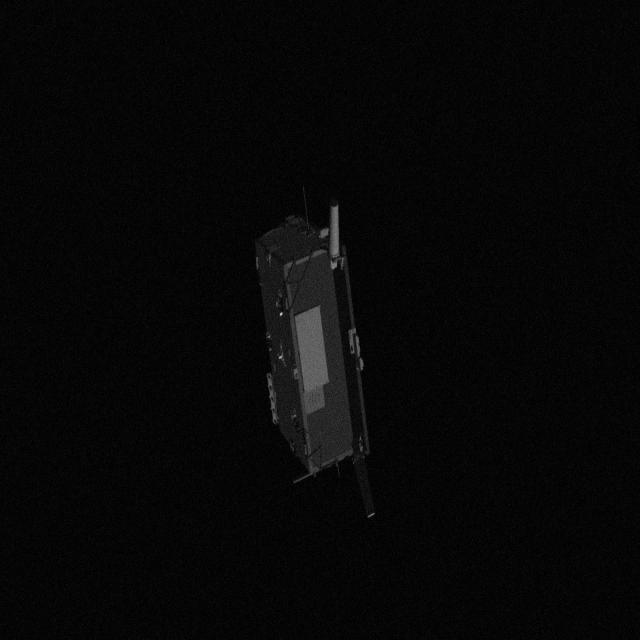satellite: (260, 182, 390, 528)
